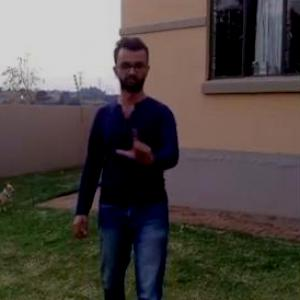land_hand: (116, 121, 160, 169)
